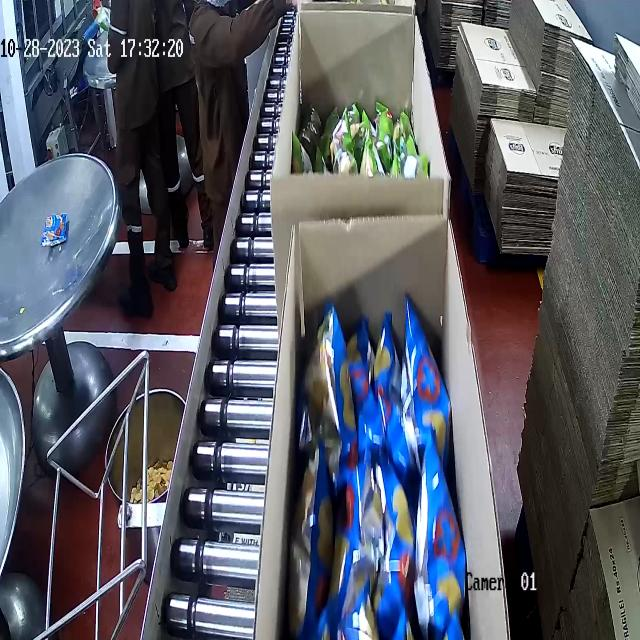PAPRIKA: (296, 273, 460, 632)
